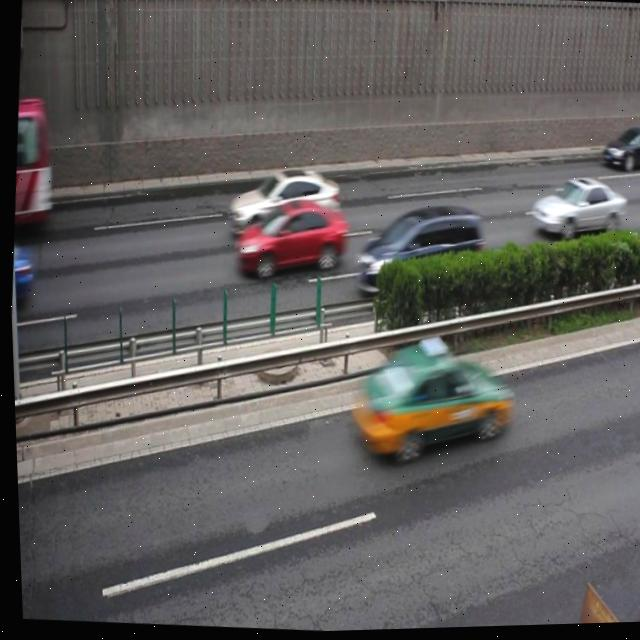car: (347, 334, 511, 469), (353, 200, 483, 297), (231, 196, 346, 283), (224, 162, 340, 242), (525, 175, 622, 247), (599, 128, 640, 177)
